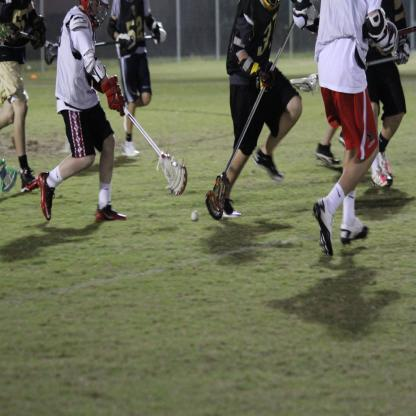Helmet: (80, 0, 109, 40)
